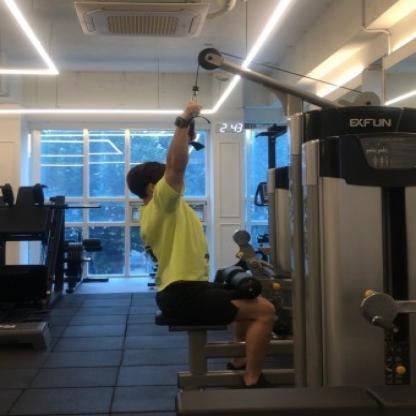Lat Pull Down: (102, 0, 416, 411)
